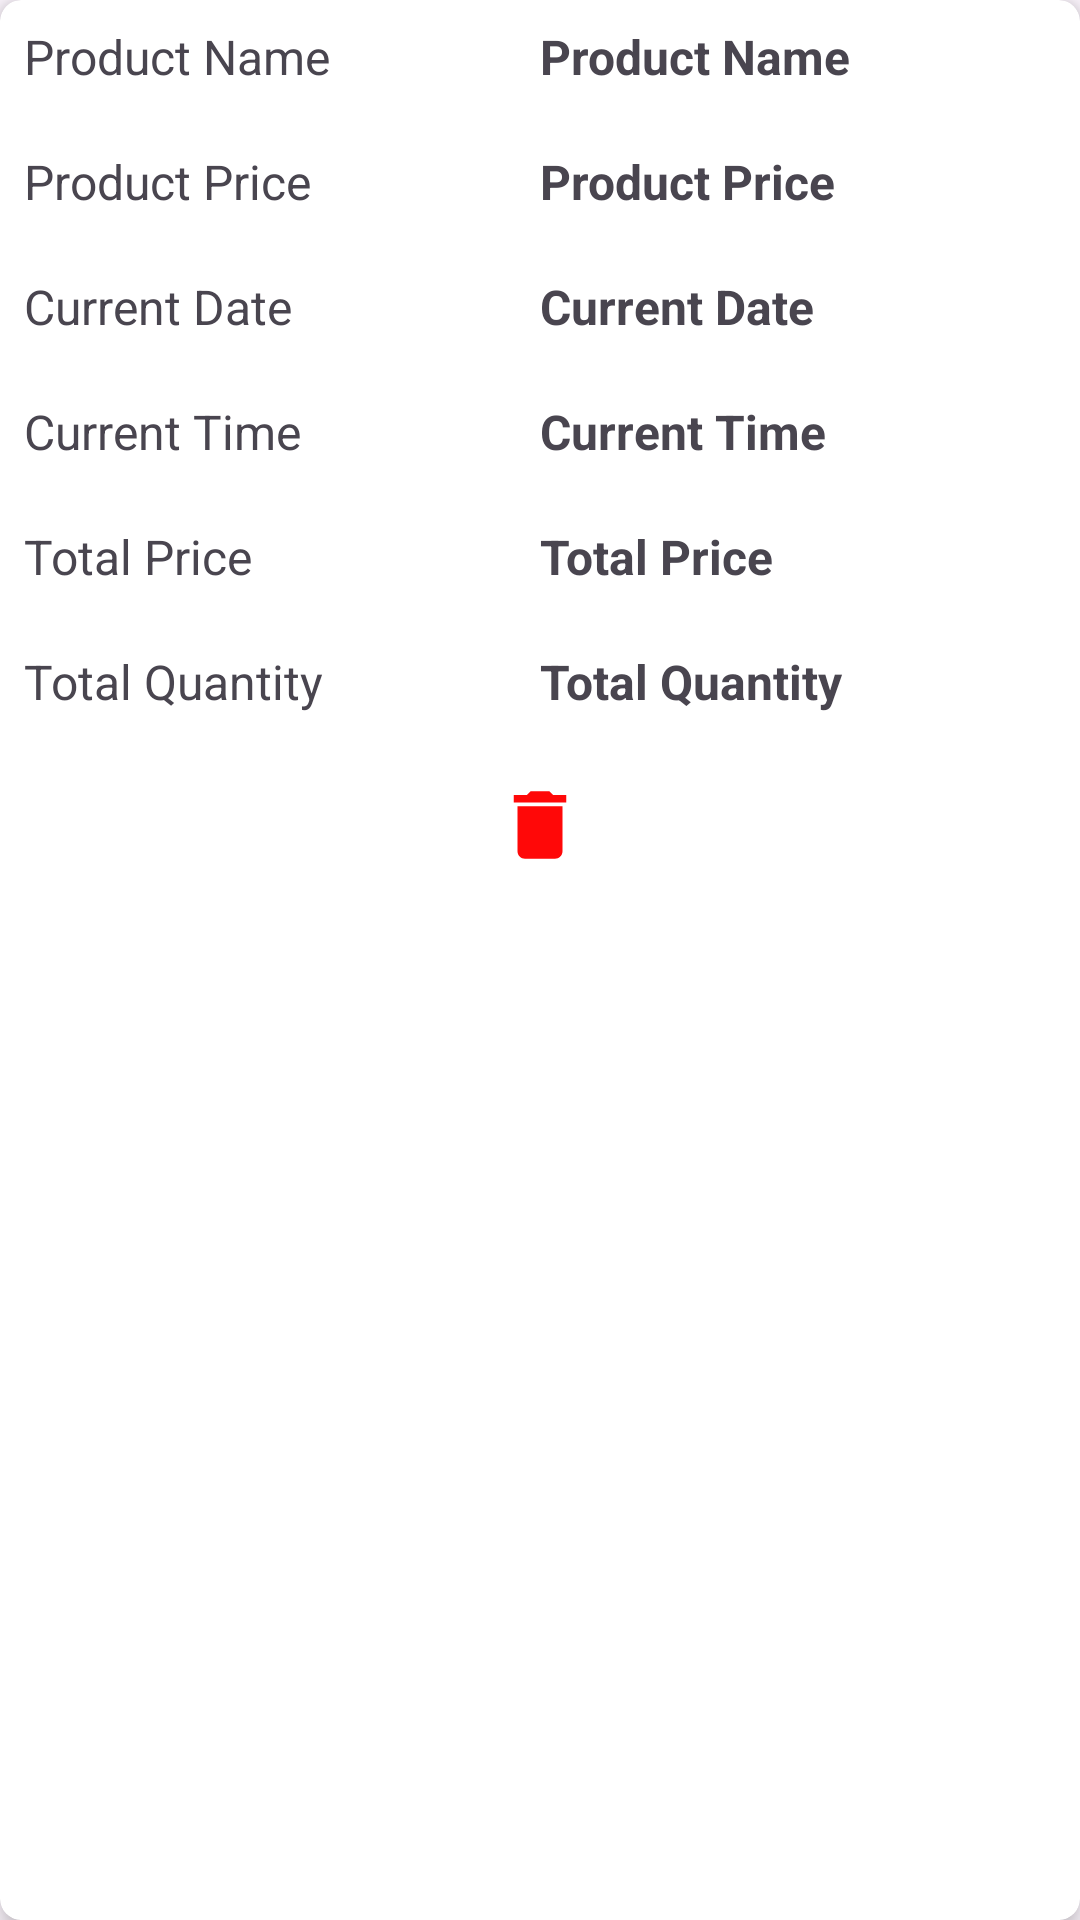

Icon click points for this 1080 x 1920 phone screenshot, format point (x, y):
delete: point (540, 825)
